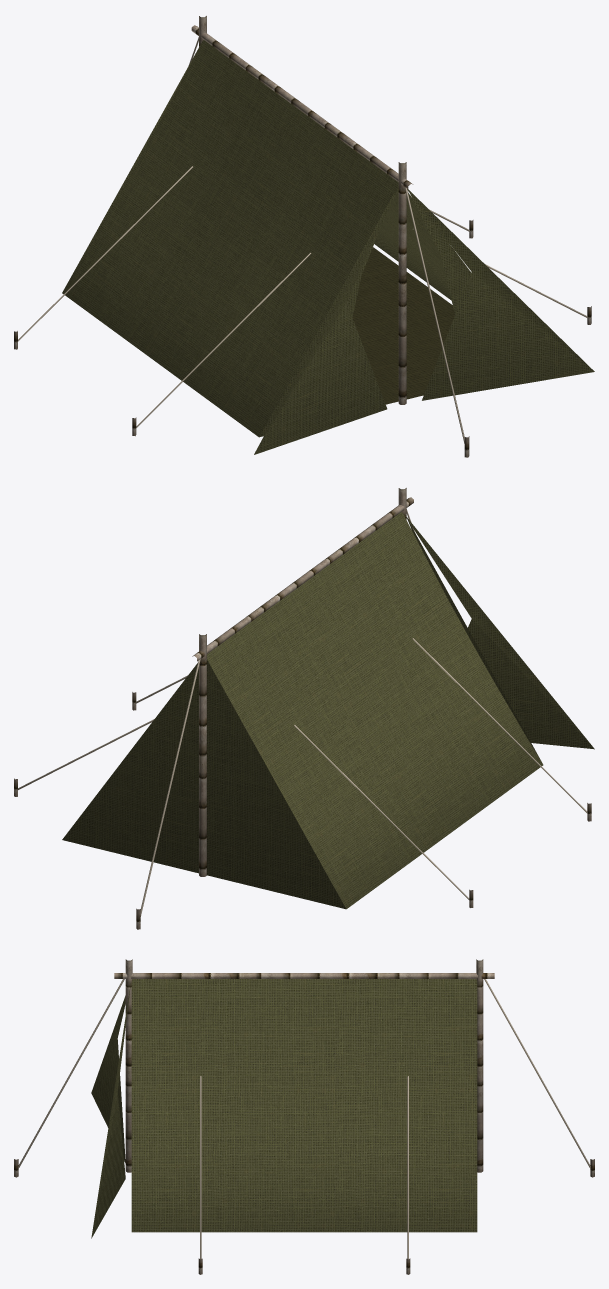
The model's file is lg-zelt-gruen.glb.
The picture shows the model from 3 angles, top to bottom: view 1: azimuth 30°, elevation 25°; view 2: azimuth 150°, elevation 25°; view 3: azimuth 270°, elevation 25°; orthographic projection. The views are drawn at different scales.
Visible parts, largest first — view 1: lg-zelt-gruen; view 2: lg-zelt-gruen; view 3: lg-zelt-gruen.
Boxes of the visible parts, x1=… form: lg-zelt-gruen: x1=14, y1=16, x2=594, y2=457; lg-zelt-gruen: x1=14, y1=488, x2=594, y2=929; lg-zelt-gruen: x1=14, y1=959, x2=594, y2=1274.
Size of the model in its own units: 4.04 by 2.08 by 5.04.
3 materials, 2 textured.
